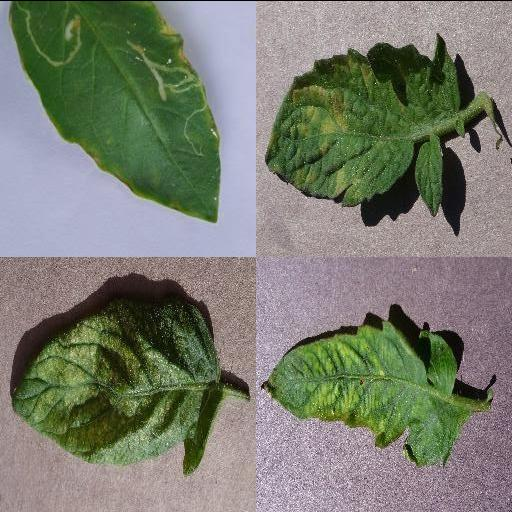Leaf Miner: (7, 0, 219, 223)
Leaf Mold: (264, 30, 462, 204)
Mosaic Virus: (260, 317, 472, 469)
Spider Mites: (12, 299, 226, 477)
